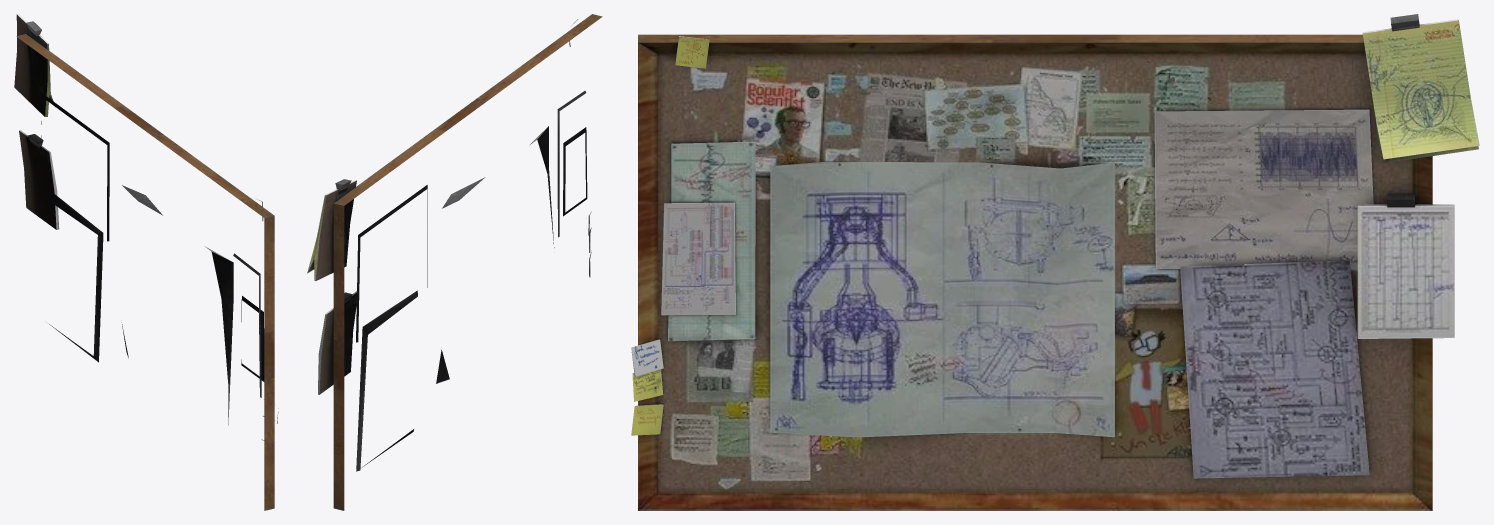
Rendered from corkboard001.glb.
The picture shows the model from 3 angles, left to right: view 1: azimuth 30°, elevation 25°; view 2: azimuth 150°, elevation 25°; view 3: azimuth 270°, elevation 25°; orthographic projection. The views are drawn at different scales.
Visible parts, largest first — view 1: 0_corkboard001_sheet; view 2: 0_corkboard001_sheet; view 3: 0_corkboard001_sheet.
Part boxes in pixels (box(x1,y1,x2,y2)): 0_corkboard001_sheet: box(14, 14, 278, 510); 0_corkboard001_sheet: box(307, 14, 602, 510); 0_corkboard001_sheet: box(631, 14, 1479, 510).
Bounding box in the file's own units: 0.1244 × 1.49 × 2.32.
1 material, 1 textured.
